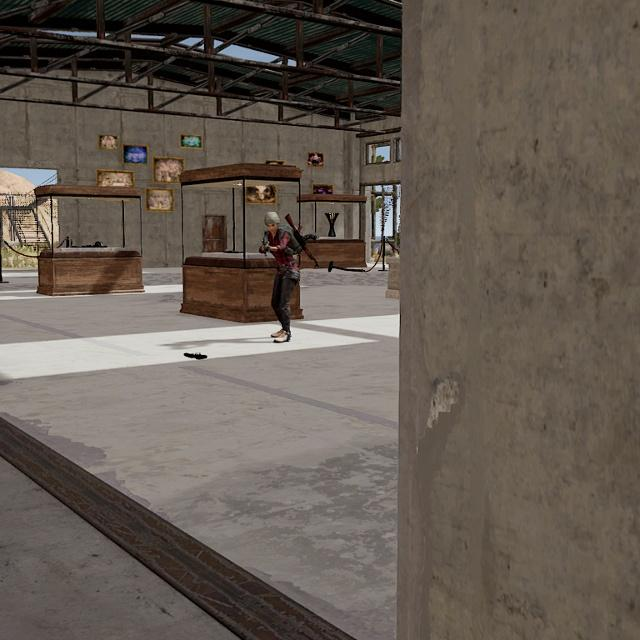head: (261, 210, 281, 234)
people: (259, 209, 300, 344)
